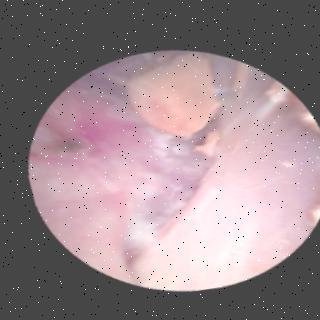stone: (123, 52, 218, 137), (189, 128, 215, 156), (229, 61, 245, 98)
tissue: (31, 59, 320, 287)
